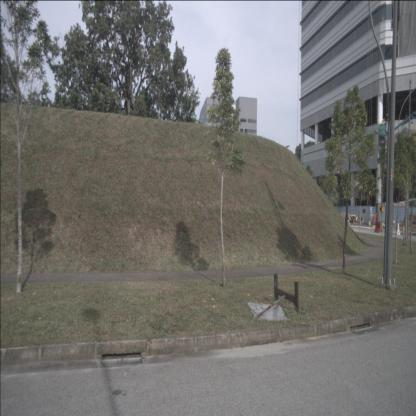barrier: (388, 221, 400, 235), (374, 221, 383, 233), (372, 216, 378, 223)
cone: (408, 226, 412, 236), (402, 226, 405, 235)
